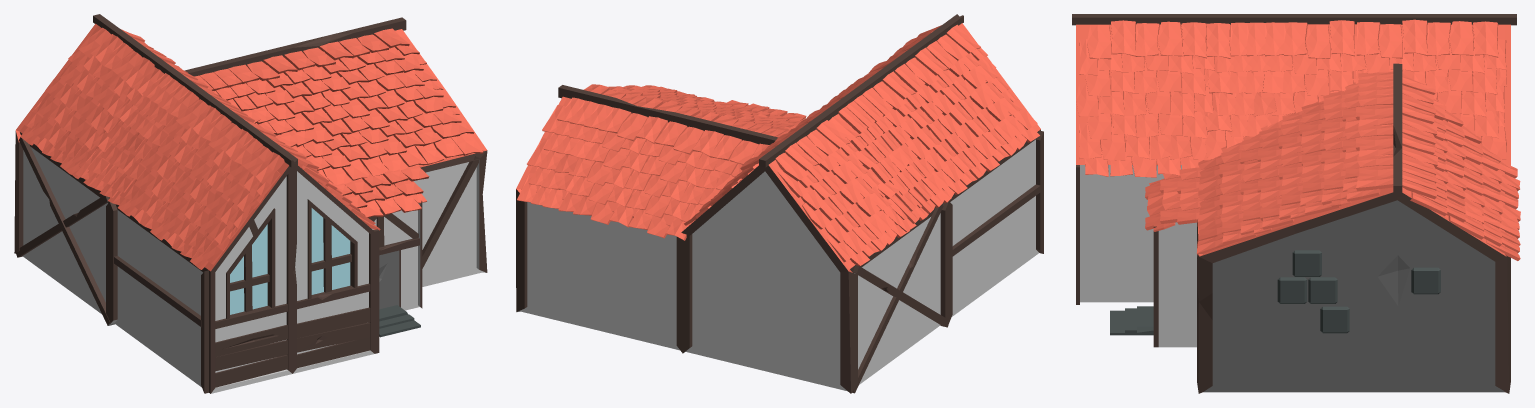
File: HOUSE.fbx
3 views of the same model, side by side, from view 1: azimuth 30°, elevation 25°; view 2: azimuth 150°, elevation 25°; view 3: azimuth 270°, elevation 25° (orthographic). The views are drawn at different scales.
Visible parts, largest first — view 1: Cube; view 2: Cube; view 3: Cube.
Boxes of the visible parts, x1,y1,x2,y2 form: Cube: (14, 14, 487, 393); Cube: (516, 14, 1043, 393); Cube: (1072, 14, 1520, 393).
Size of the model in its own units: 2.09 by 1.27 by 2.11.
